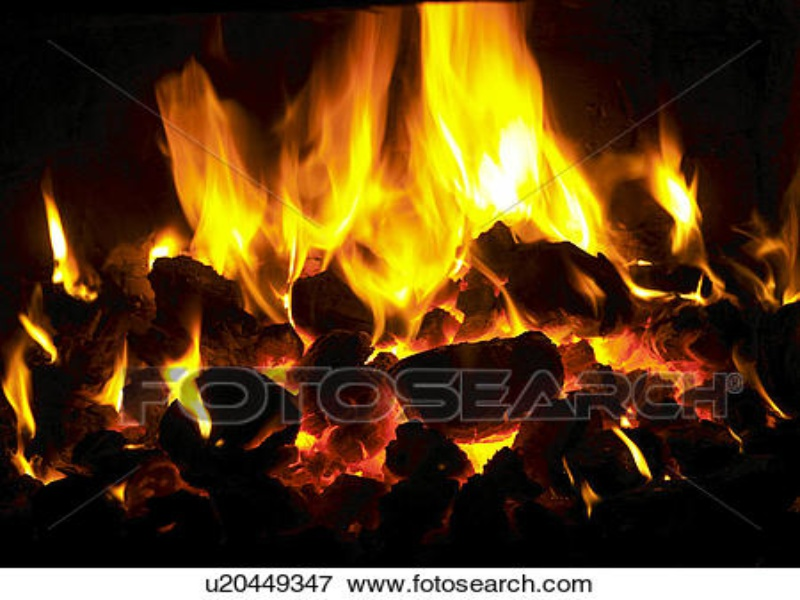fire: (145, 1, 731, 359), (3, 362, 258, 506), (31, 190, 83, 299), (611, 420, 653, 484), (20, 306, 56, 361)
